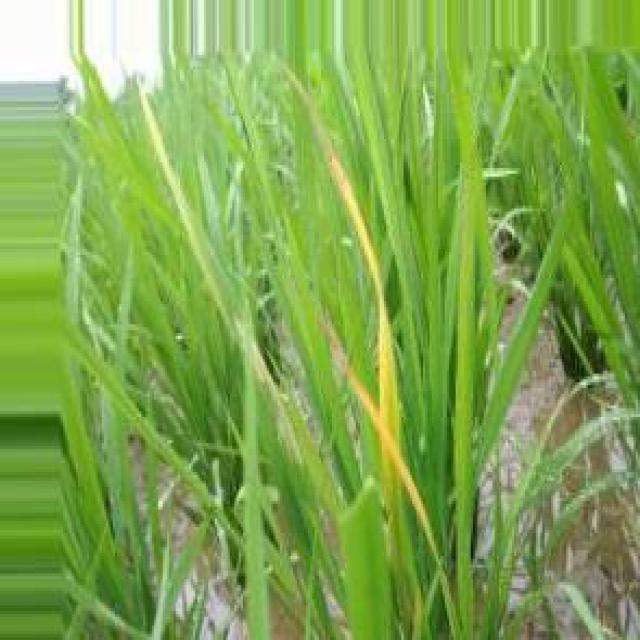Rice Tungro: (328, 322, 455, 633), (317, 127, 400, 460), (329, 150, 373, 263)
